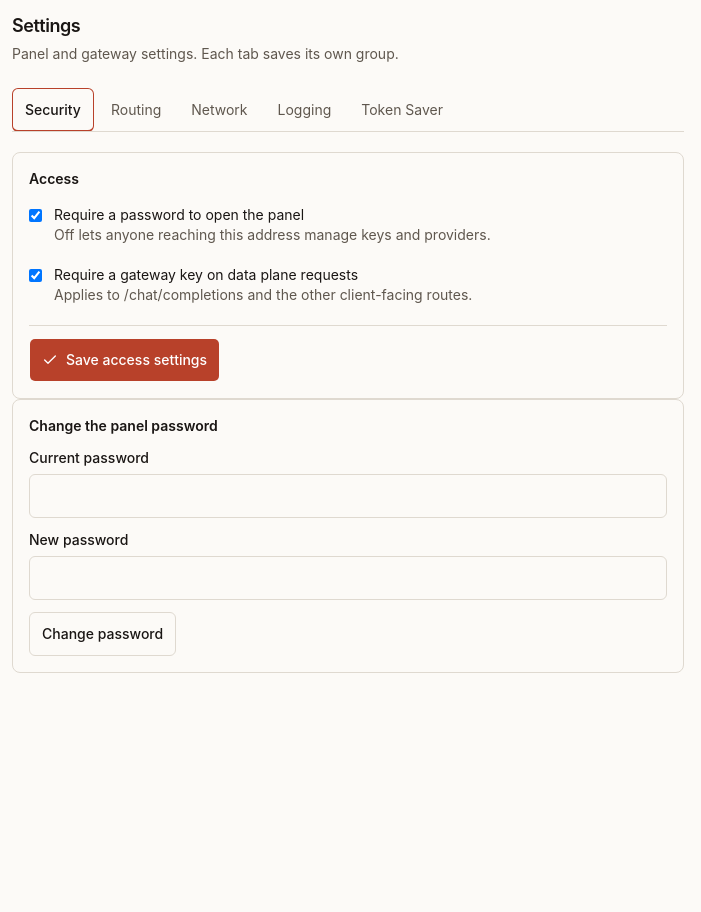
Test: SettingsPage › refuses a routing limit below the API floor without sending anything
The width and height of the screenshot is (701, 912).
Expected: the element showing "Security Routing Network Logging Token Saver" is shown, [12, 88, 684, 132]
Step 1. Click the tab "Routing" → (136, 110), box [98, 88, 174, 132]
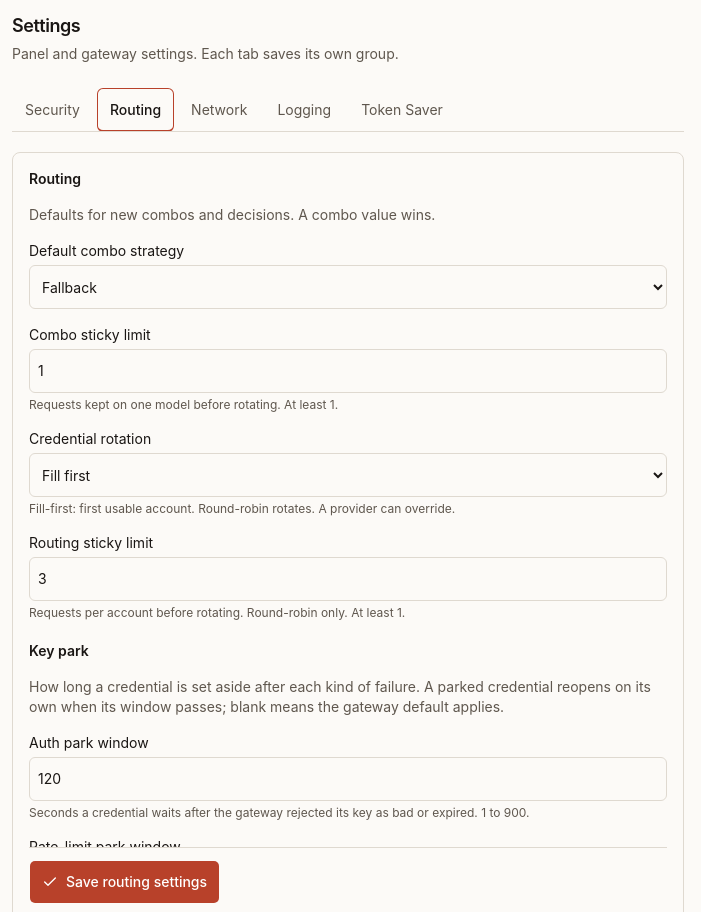
Step 2. Replace the text in the number field labelled "Routing sticky limit" with "0" → (348, 579), box [29, 557, 667, 601]
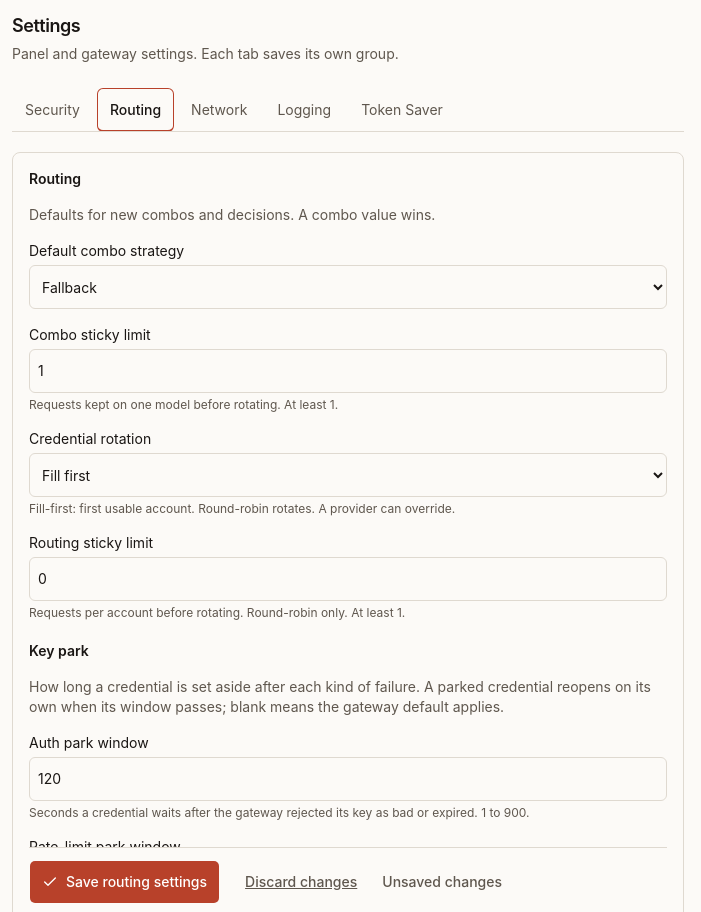
Step 3. Click the button "Save routing settings" → (125, 882), box [29, 860, 220, 904]
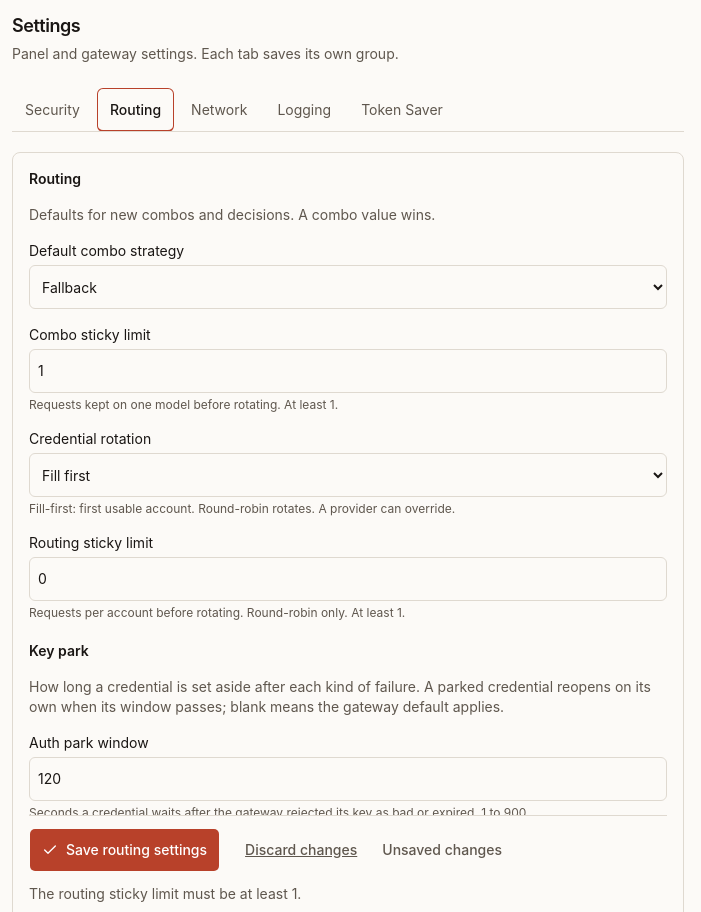
Now the text "The routing sticky limit must be at least 1." is shown, box [29, 885, 301, 902]
